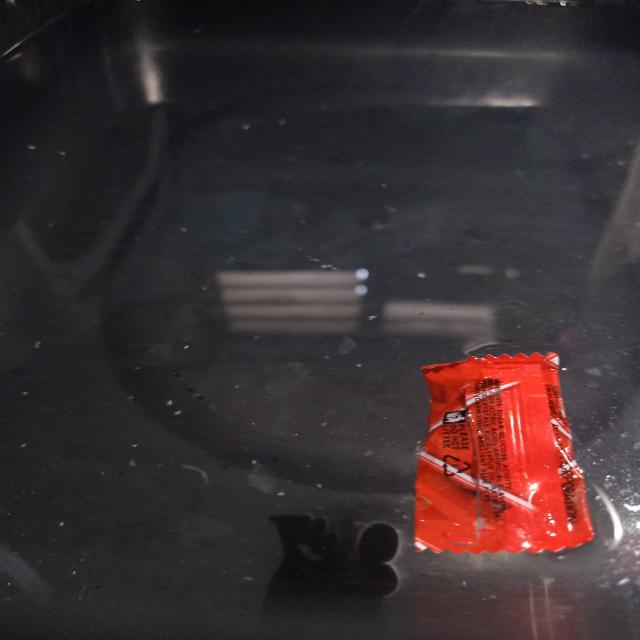Plastic Wrapper: (415, 352, 594, 553)
